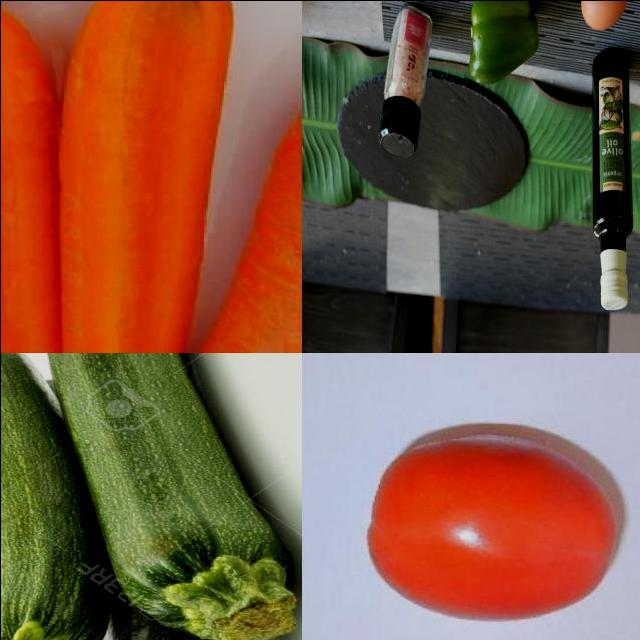bell_pepper: (460, 1, 545, 96)
carrot: (61, 1, 233, 353), (141, 57, 302, 353), (1, 4, 68, 353)
egg: (575, 1, 630, 35)
tomato: (355, 403, 620, 639)
zucchini: (30, 353, 302, 640)
